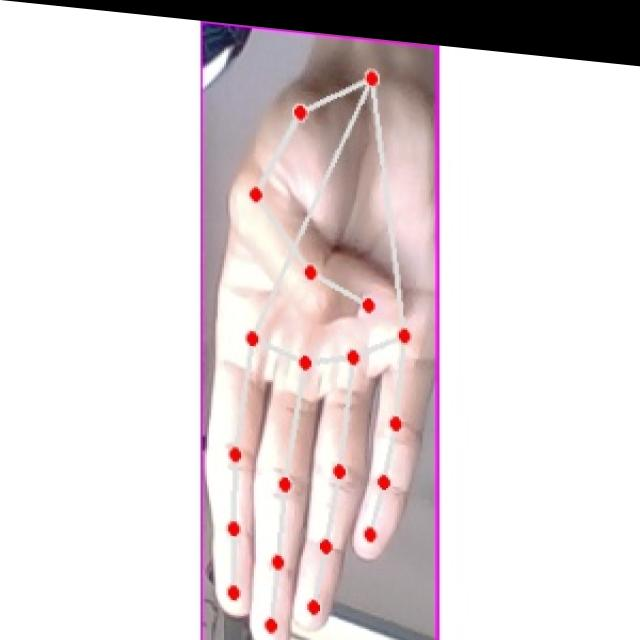B: (208, 45, 430, 640)
